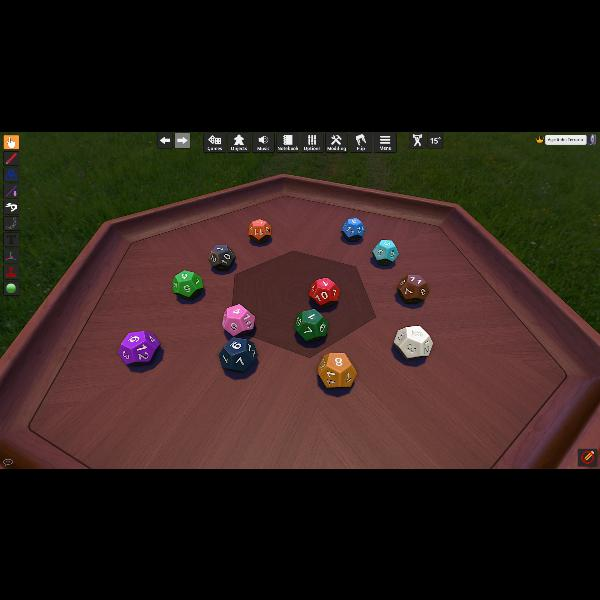d12: (218, 336, 258, 372), (119, 330, 161, 364), (318, 352, 356, 388), (394, 324, 432, 358), (222, 303, 254, 335), (397, 274, 429, 304), (300, 309, 330, 340), (308, 278, 338, 306), (174, 270, 204, 298), (209, 244, 236, 270), (371, 239, 397, 265), (248, 219, 272, 242), (342, 217, 364, 241)
